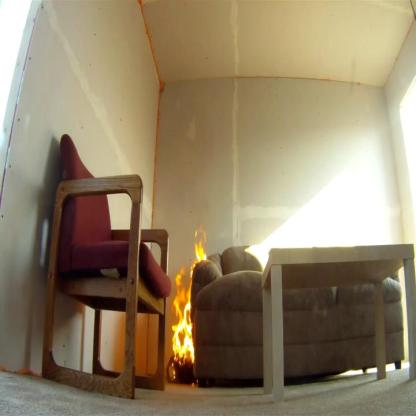fire: (172, 270, 195, 382), (190, 228, 210, 264)
